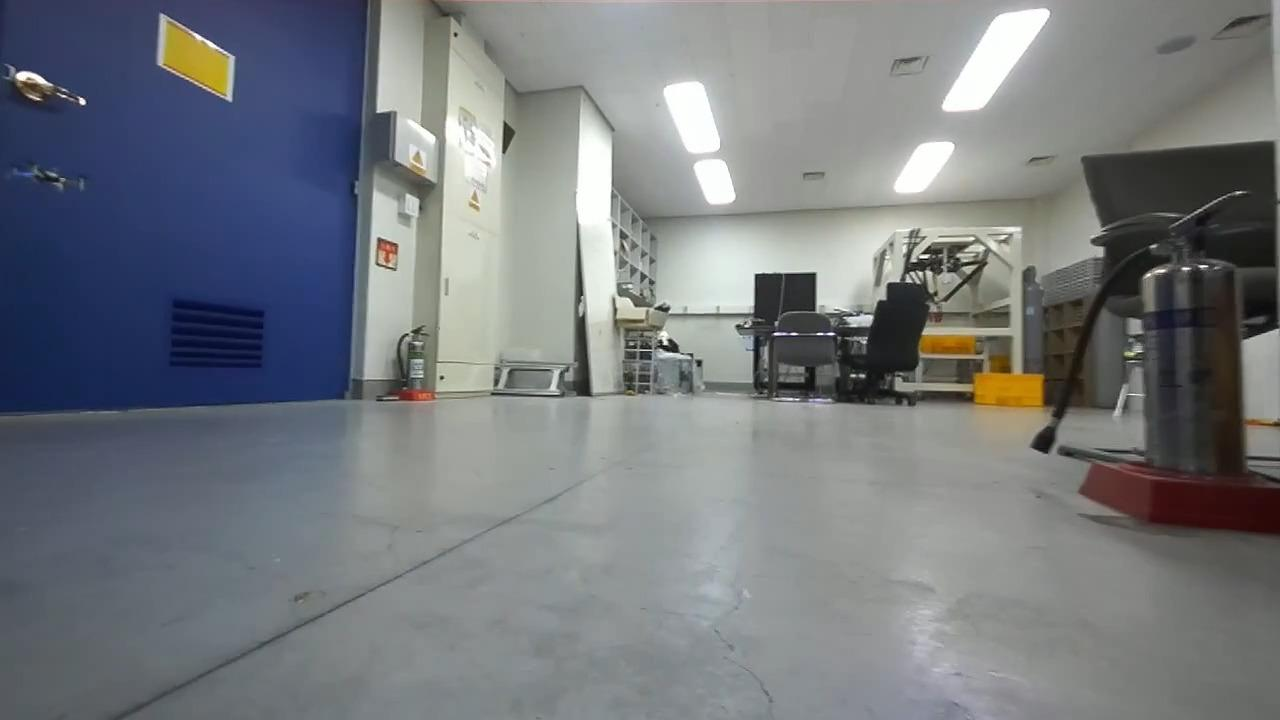crazyflie: (2, 156, 88, 197)
